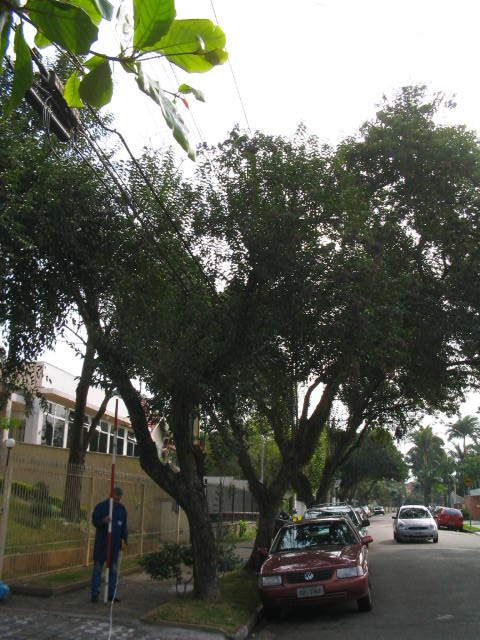crown: (2, 122, 414, 402)
stem: (175, 501, 230, 601), (239, 504, 287, 570)
stick: (96, 397, 125, 601)
tree: (1, 120, 416, 602)
